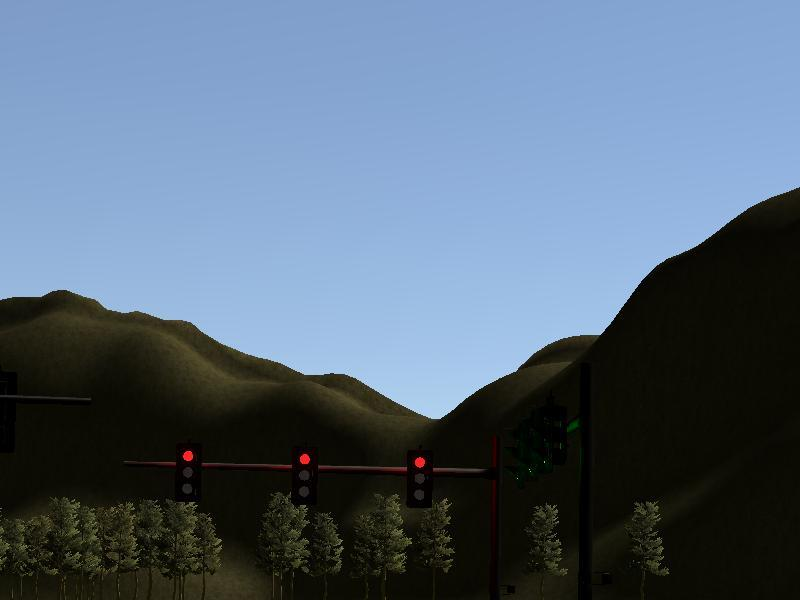Red: (174, 445, 201, 503), (407, 450, 432, 508), (291, 446, 315, 506)
